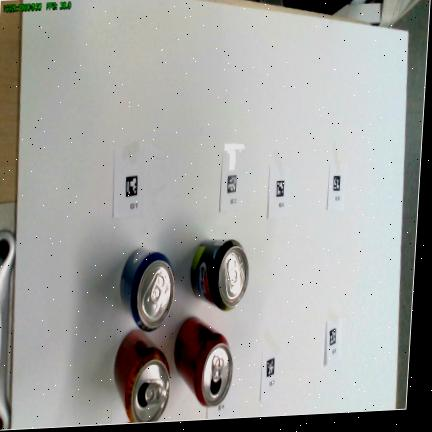can_coke_decaf: (114, 329, 170, 421)
can_coke_zero: (174, 317, 232, 406)
can_pepsi: (120, 247, 174, 331)
can_pepsi_zero: (191, 240, 248, 310)
